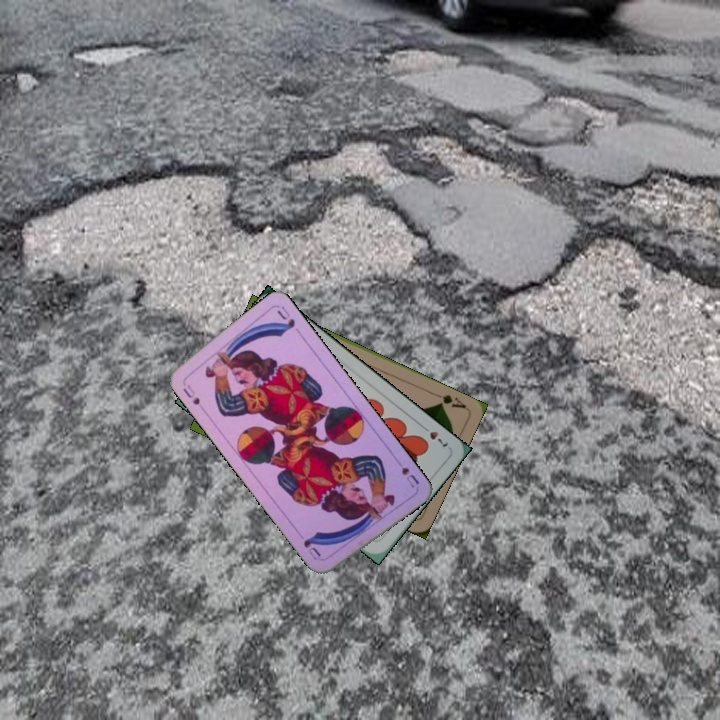GA: (430, 389, 469, 412)
H7: (417, 421, 451, 451)
SU: (391, 454, 422, 491), (179, 381, 203, 408)
